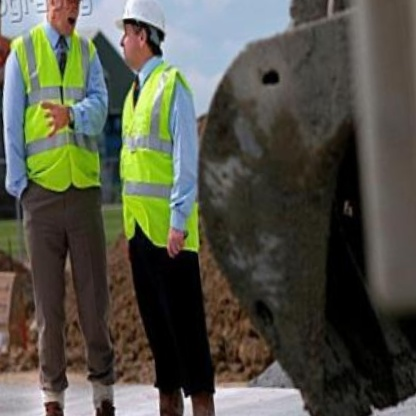vest: (101, 58, 209, 265), (3, 15, 109, 197)
white: (105, 0, 171, 44), (35, 0, 91, 6)
